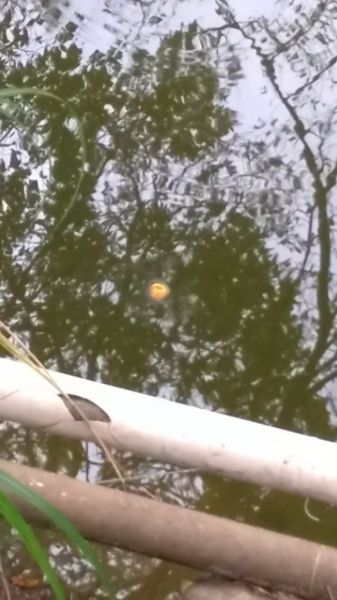eggs: (148, 278, 174, 303)
